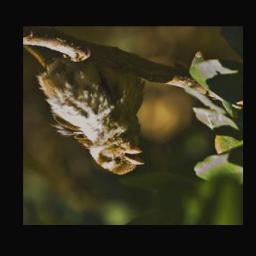Sparrow: (38, 54, 146, 175)
